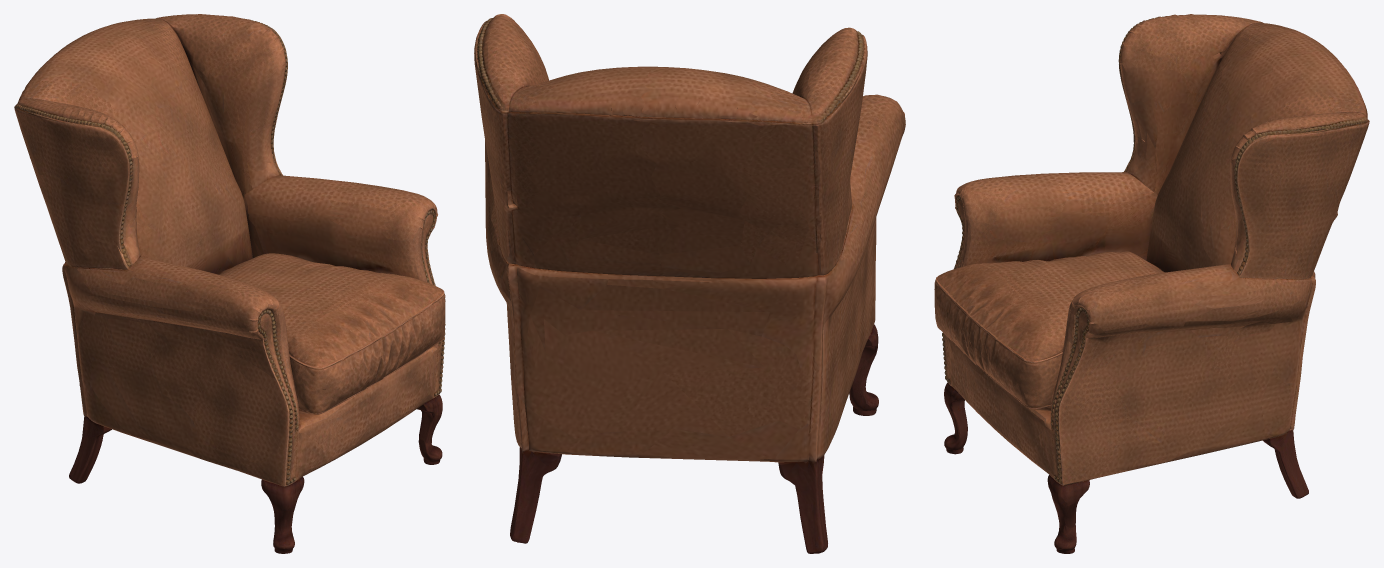
Rendered from armchair.glb.
The picture shows the model from 3 angles, left to right: view 1: azimuth 30°, elevation 25°; view 2: azimuth 150°, elevation 25°; view 3: azimuth 270°, elevation 25°; orthographic projection. The views are drawn at different scales.
Visible parts, largest first — view 1: Mesh_0; view 2: Mesh_0; view 3: Mesh_0.
Part boxes in pixels (<box>): Mesh_0: <box>14,14,445,553</box>; Mesh_0: <box>474,14,905,553</box>; Mesh_0: <box>934,14,1369,553</box>.
Size of the model in its own units: 1.01 by 1.1 by 1.1.
1 material, 1 textured.
